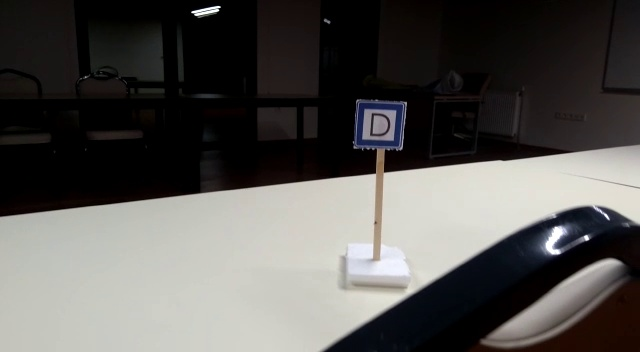durak: (354, 100, 406, 147)
